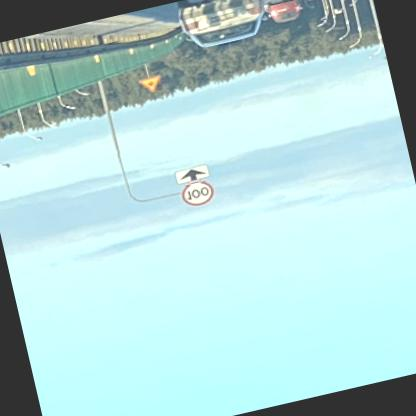speedlimit: (178, 181, 214, 211)
